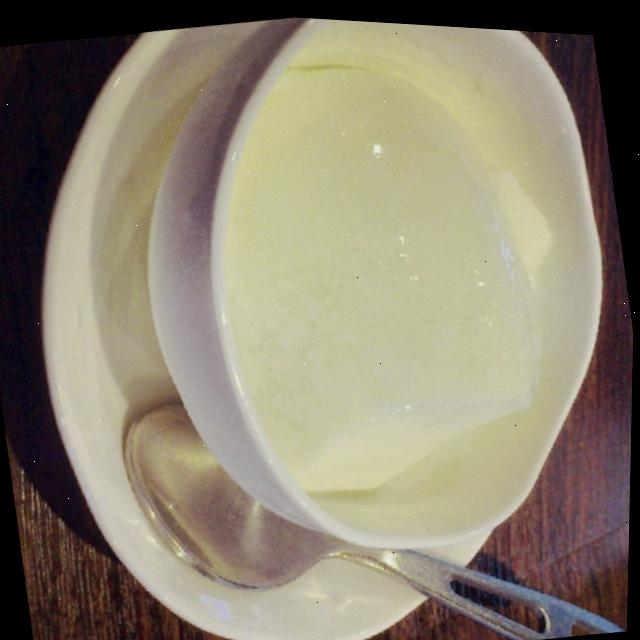面条主食: (13, 1, 640, 640)
